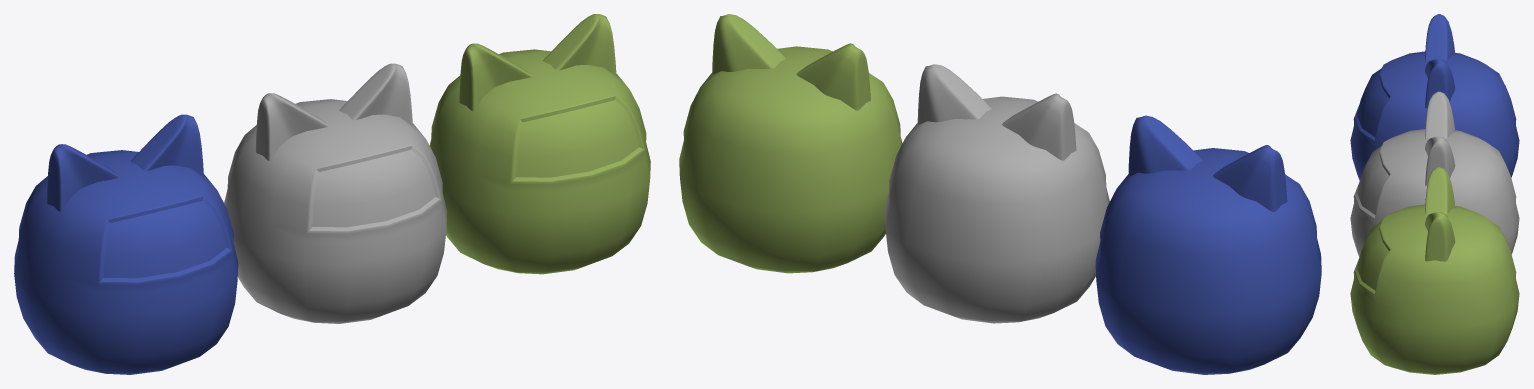
The picture shows the model from 3 angles, left to right: view 1: azimuth 30°, elevation 25°; view 2: azimuth 150°, elevation 25°; view 3: azimuth 270°, elevation 25°; orthographic projection. The views are drawn at different scales.
Visible parts, largest first — view 1: pCube4Sh1, TEMPORARY_IMPORT_NAMESPACE_____翁_鎋_:pCube4Sh, pCube4Sh; view 2: pCube4Sh1, TEMPORARY_IMPORT_NAMESPACE_____翁_鎋_:pCube4Sh, pCube4Sh; view 3: pCube4Sh, pCube4Sh1, TEMPORARY_IMPORT_NAMESPACE_____翁_鎋_:pCube4Sh.
Part boxes in pixels (x1,y1,x2,y2): pCube4Sh1: (14,114,238,374); TEMPORARY_IMPORT_NAMESPACE_____翁_鎋_:pCube4Sh: (224,63,447,323); pCube4Sh: (429,14,650,274); pCube4Sh1: (1095,115,1321,374); TEMPORARY_IMPORT_NAMESPACE_____翁_鎋_:pCube4Sh: (884,64,1109,323); pCube4Sh: (679,14,902,273); pCube4Sh: (1350,167,1519,374); pCube4Sh1: (1350,14,1519,180); TEMPORARY_IMPORT_NAMESPACE_____翁_鎋_:pCube4Sh: (1350,91,1519,256).
Bounding box in the file's own units: 82.47 × 28.65 × 26.25.
